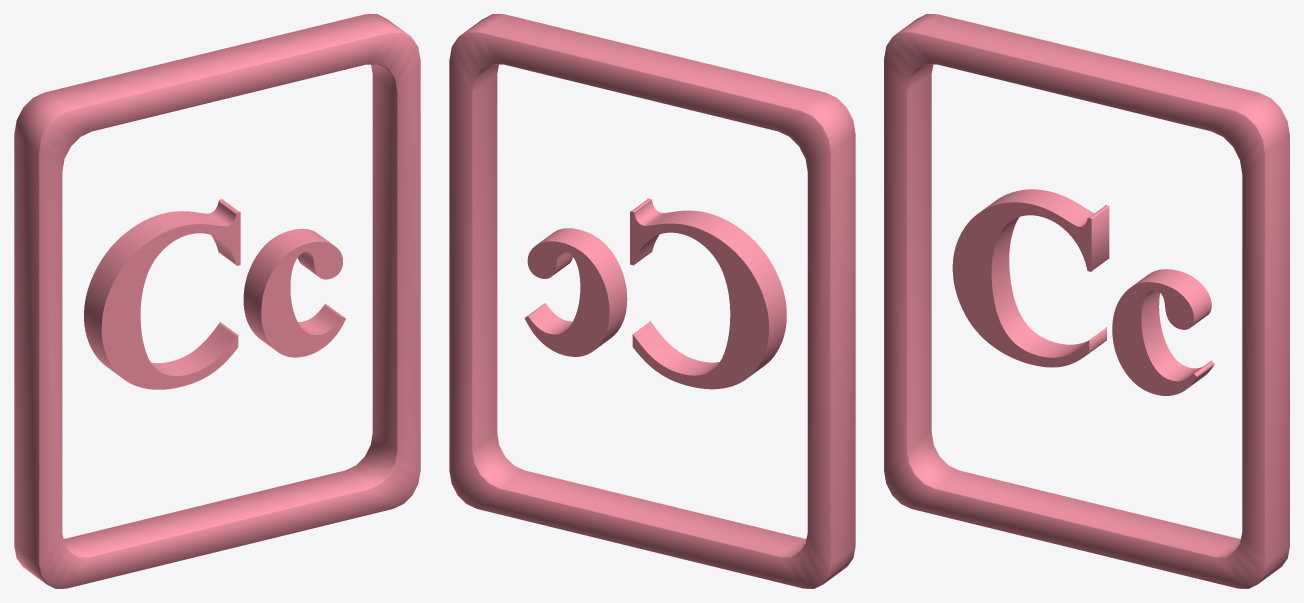
Rendered from Letter_C.gltf.
3 renders of one model, left to right at view 1: azimuth 30°, elevation 25°; view 2: azimuth 150°, elevation 25°; view 3: azimuth 330°, elevation 25°, orthographic.
Visible parts, largest first — view 1: Plane.052; view 2: Plane.052; view 3: Plane.052.
Part boxes in pixels (x1,y1,x2,y2): Plane.052: [14, 14, 420, 588]; Plane.052: [449, 14, 855, 588]; Plane.052: [884, 14, 1289, 588].
Size of the model in its own units: 1.25 by 1.49 by 0.1418.
